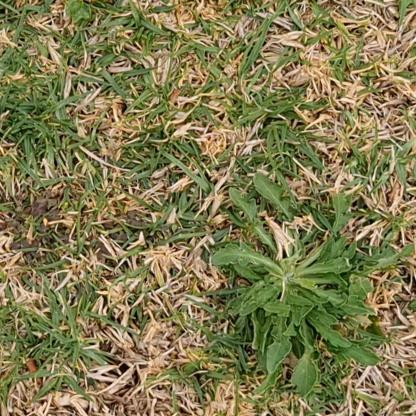Weeds: (209, 174, 411, 400)
